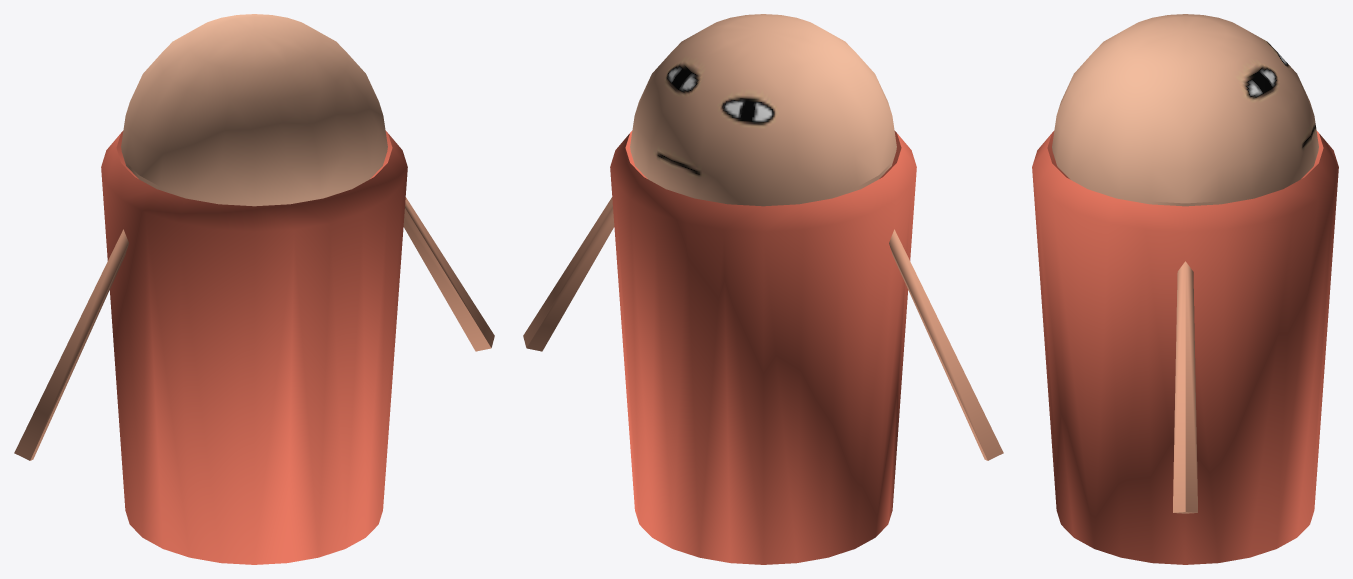
The model's file is icon.ico.obj.
The picture shows the model from 3 angles, left to right: view 1: azimuth 30°, elevation 25°; view 2: azimuth 150°, elevation 25°; view 3: azimuth 270°, elevation 25°; orthographic projection.
Bounding box in the file's own units: 4.35 × 4.15 × 2.4.
1 material, 1 textured.
